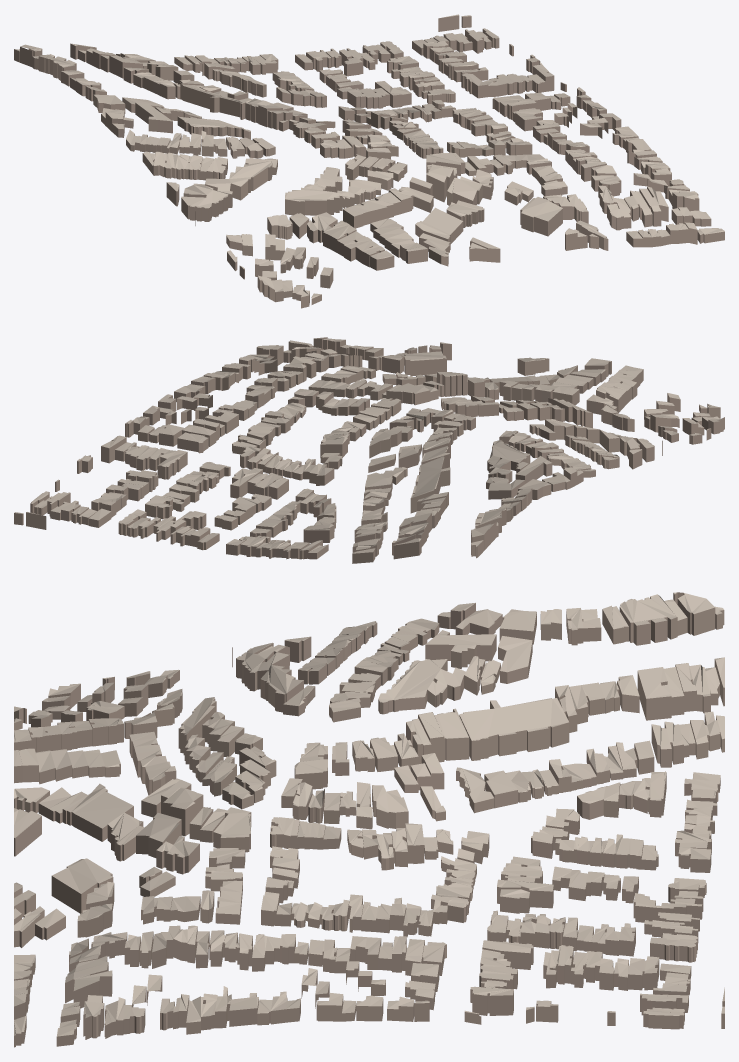
Rendered from epsg26910-1430-10882.building-source-tone-proof.glb.
3 views of the same model, one above another, from view 1: azimuth 30°, elevation 25°; view 2: azimuth 150°, elevation 25°; view 3: azimuth 270°, elevation 25° (orthographic). The views are drawn at different scales.
Parts seen in each view (by area): view 1: epsg26910-1430-10882-building-presentation-proof; view 2: epsg26910-1430-10882-building-presentation-proof; view 3: epsg26910-1430-10882-building-presentation-proof.
Boxes of the visible parts, x1,y1,x2,y2 form: epsg26910-1430-10882-building-presentation-proof: (14,14,724,308); epsg26910-1430-10882-building-presentation-proof: (14,337,724,563); epsg26910-1430-10882-building-presentation-proof: (14,592,724,1047).
Bounding box in the file's own units: 384 × 95.92 × 384.
